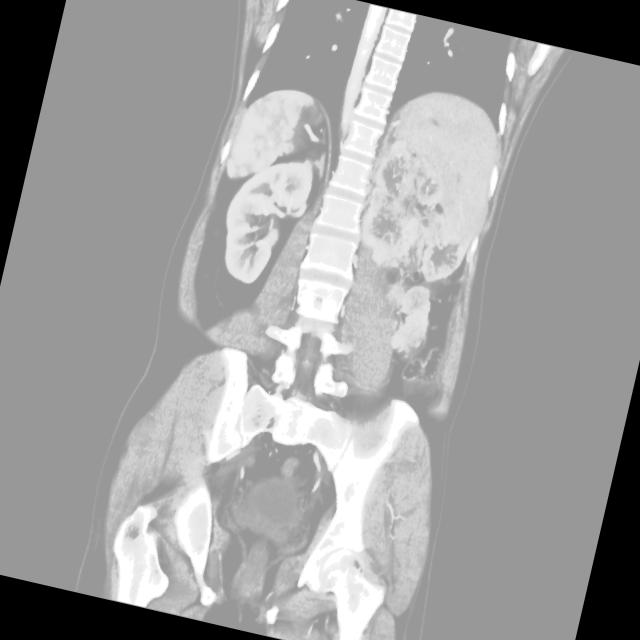TUMOR: (140, 60, 569, 369)
